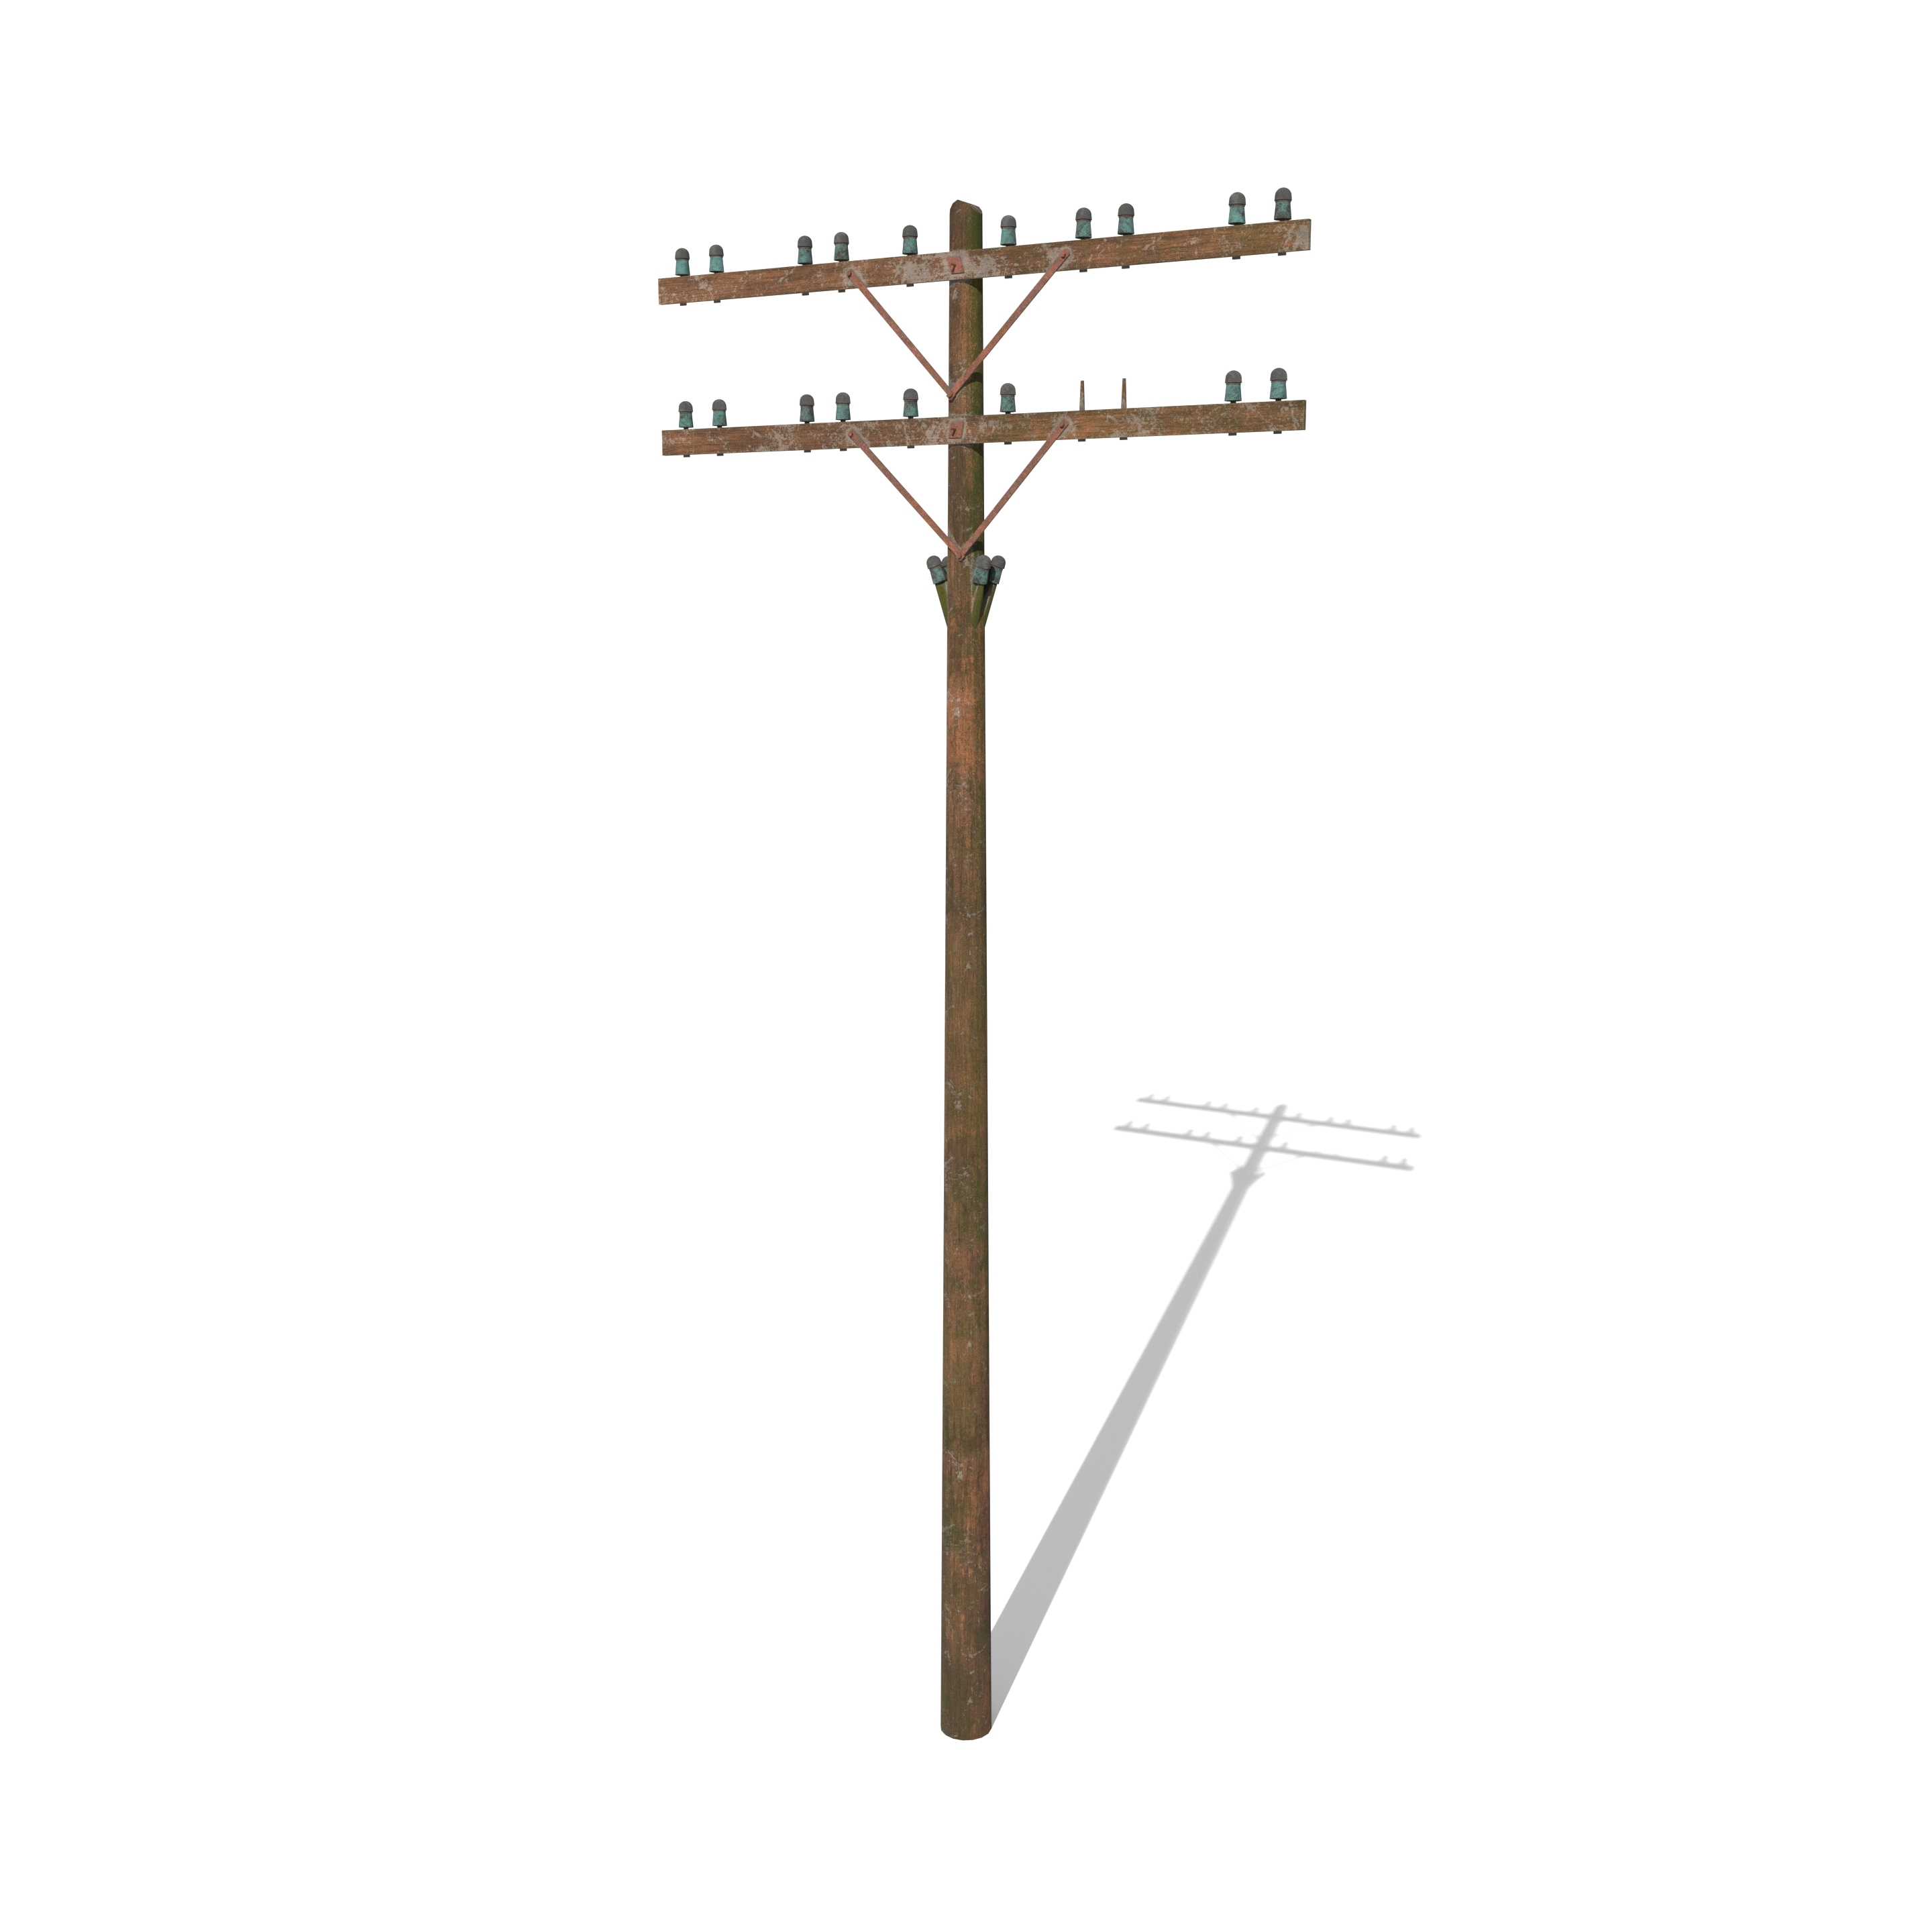utility_pole: (621, 157, 1322, 632)
